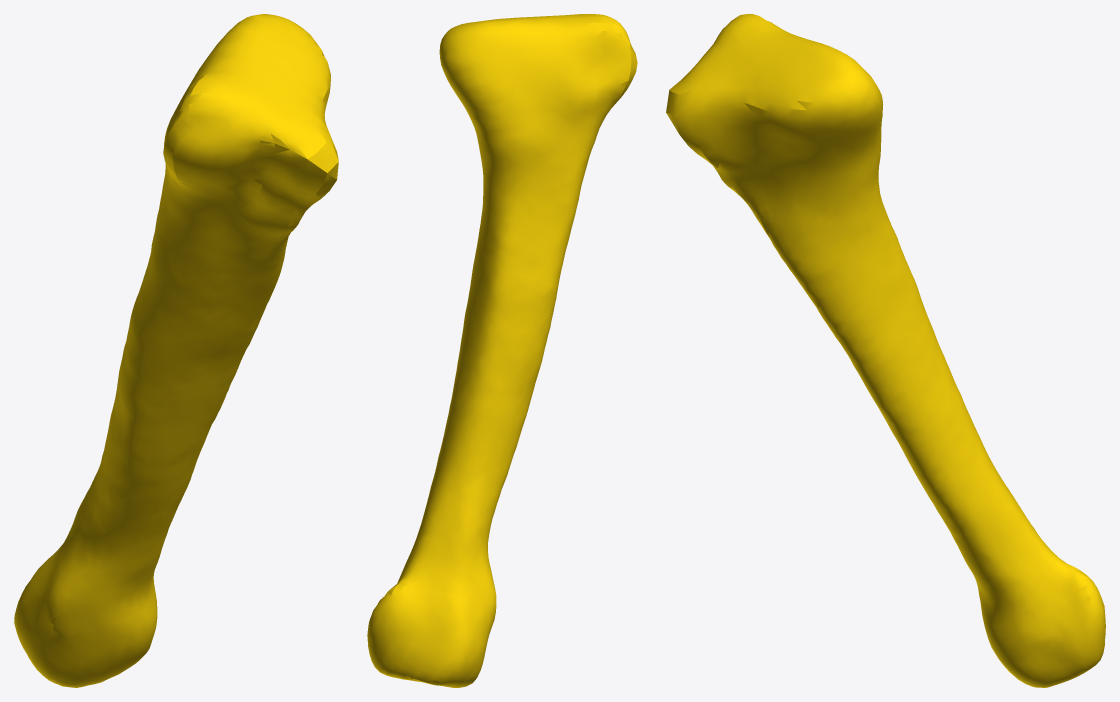
File: Metatarsal_2.obj
The picture shows the model from 3 angles, left to right: view 1: azimuth 30°, elevation 25°; view 2: azimuth 150°, elevation 25°; view 3: azimuth 270°, elevation 25°; orthographic projection. The views are drawn at different scales.
Parts seen in each view (by area): view 1: Object_0Metatarsal_2; view 2: Object_0Metatarsal_2; view 3: Object_0Metatarsal_2.
Part boxes in pixels (box(x1,y1,x2,y2)): Object_0Metatarsal_2: box(14, 14, 338, 687); Object_0Metatarsal_2: box(367, 14, 637, 687); Object_0Metatarsal_2: box(666, 14, 1105, 687).
Bounding box in the file's own units: 21.65 × 79.58 × 49.12.
